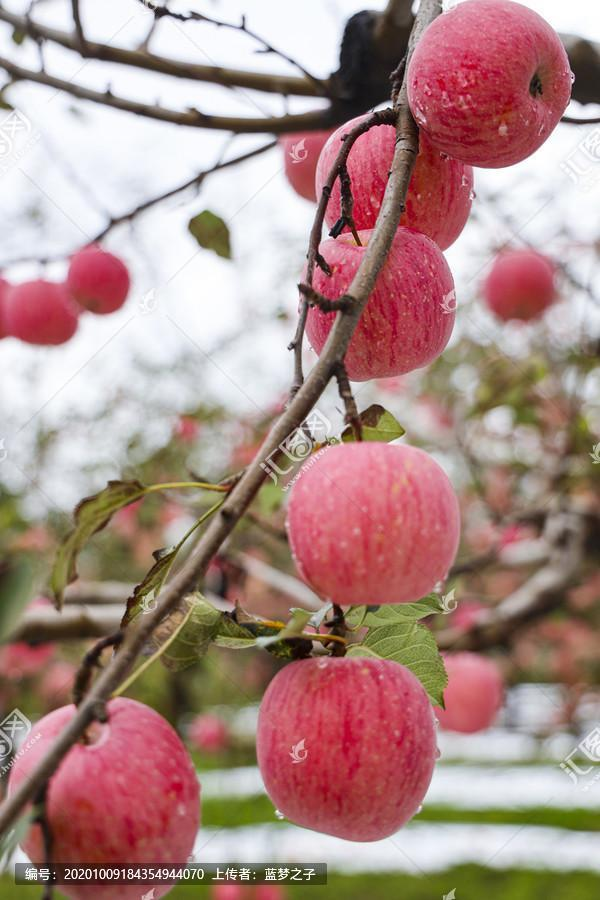apple: (251, 656, 434, 846), (9, 696, 200, 867), (284, 438, 463, 605), (396, 4, 573, 162), (299, 243, 454, 378), (318, 117, 473, 251)
